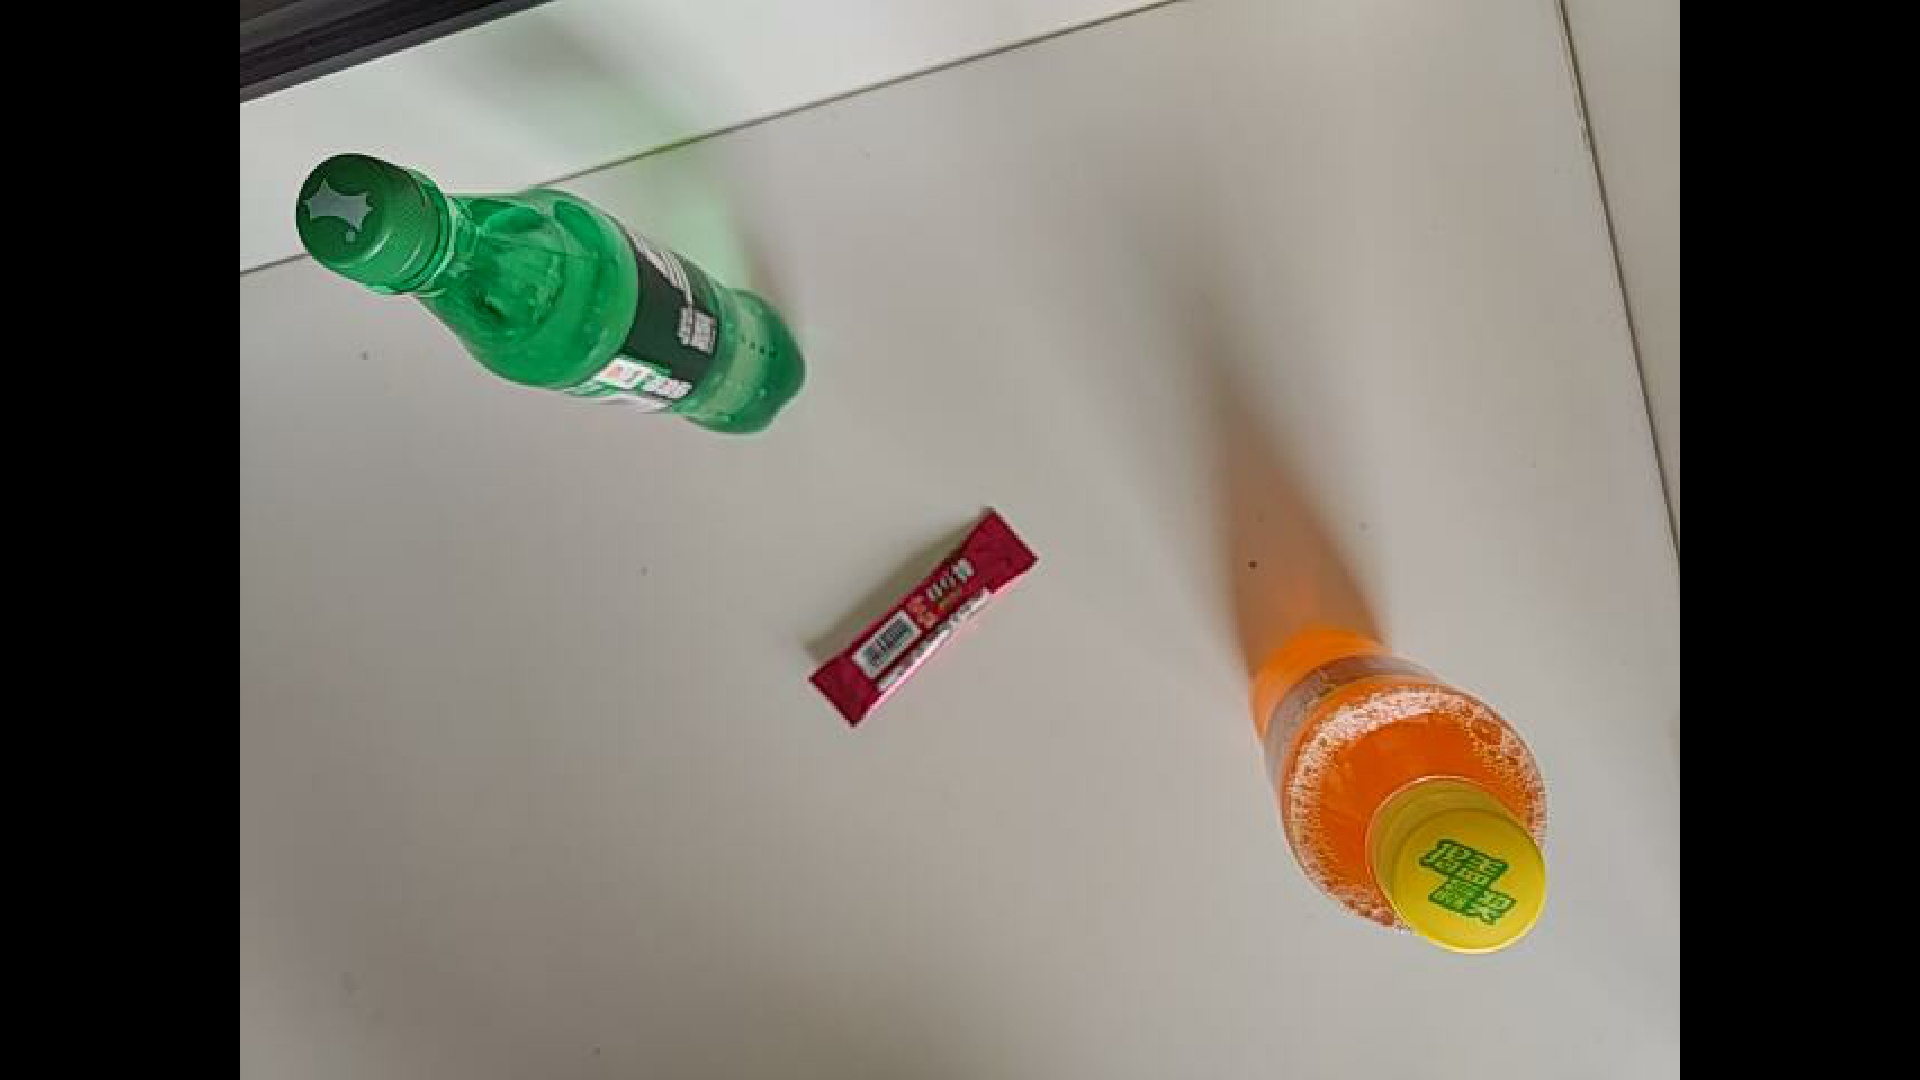fenta: (1250, 625, 1552, 957)
sprite: (294, 152, 808, 438)
sugar: (659, 502, 1043, 711)
